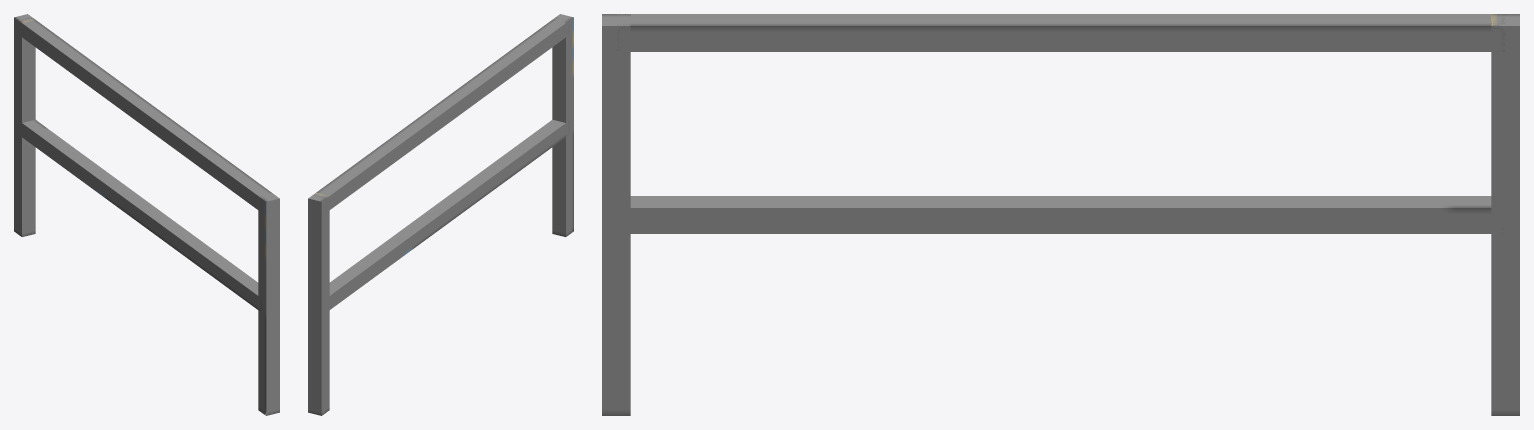
File: walkway_railing.obj
3 views of the same model, side by side, from view 1: azimuth 30°, elevation 25°; view 2: azimuth 150°, elevation 25°; view 3: azimuth 270°, elevation 25° (orthographic). The views are drawn at different scales.
Visible parts, largest first — view 1: cube; view 2: cube; view 3: cube.
Boxes of the visible parts, x1=… form: cube: x1=14, y1=14, x2=279, y2=415; cube: x1=308, y1=14, x2=573, y2=415; cube: x1=602, y1=14, x2=1519, y2=415.
Bounding box in the file's own units: 0.0625 × 0.9375 × 2.
1 material, 1 textured.
